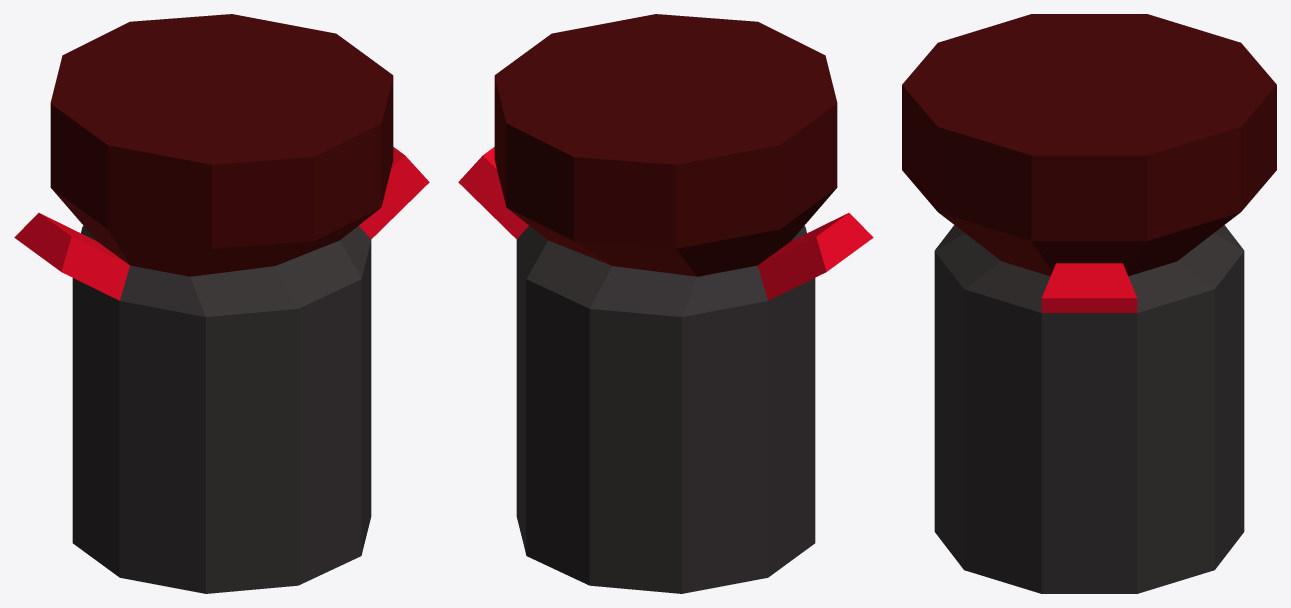
The model's file is crafting.fbx.
3 views of the same model, side by side, from view 1: azimuth 30°, elevation 25°; view 2: azimuth 150°, elevation 25°; view 3: azimuth 270°, elevation 25° (orthographic).
Parts seen in each view (by area): view 1: Cylinder.001, Cylinder, Cylinder.002; view 2: Cylinder.001, Cylinder, Cylinder.002; view 3: Cylinder.001, Cylinder, Cylinder.002.
Part boxes in pixels (box(x1,y1,x2,y2)): Cylinder.001: box(72, 225, 371, 593); Cylinder: box(50, 14, 393, 276); Cylinder.002: box(14, 147, 429, 300); Cylinder.001: box(516, 225, 815, 593); Cylinder: box(494, 14, 837, 276); Cylinder.002: box(458, 147, 873, 300); Cylinder.001: box(934, 225, 1244, 593); Cylinder: box(902, 14, 1276, 276); Cylinder.002: box(1041, 263, 1137, 312).
Bounding box in the file's own units: 278 × 318 × 242.
